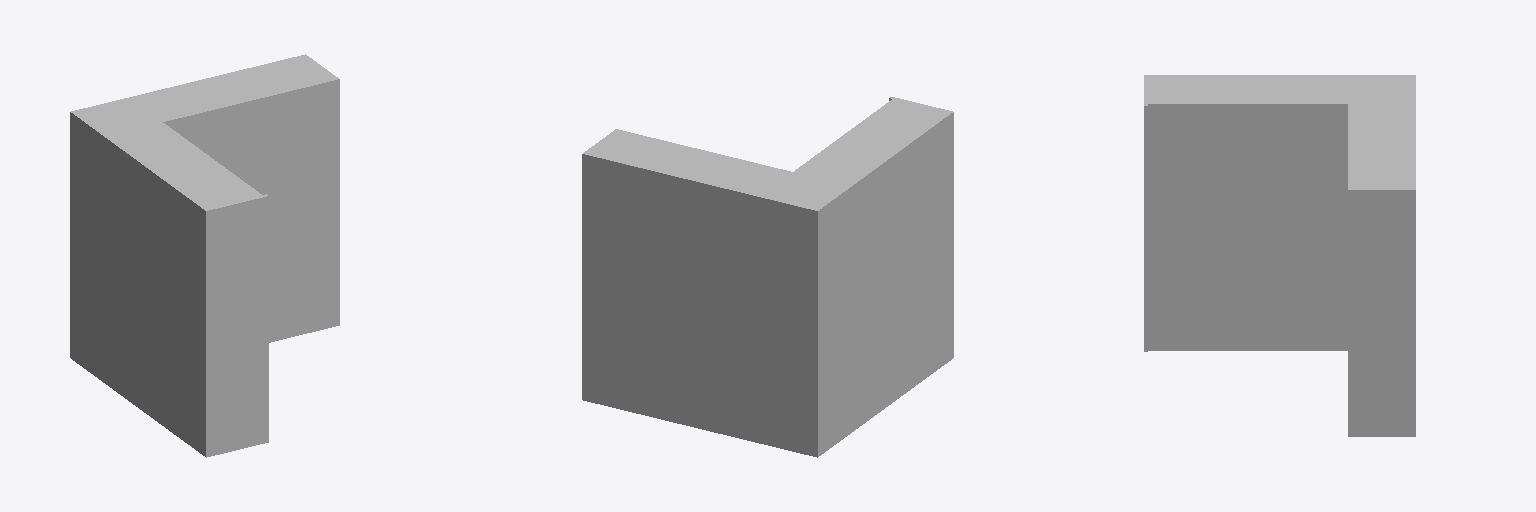
The model's file is The Vault-19.obj.
3 renders of one model, left to right at view 1: azimuth 30°, elevation 25°; view 2: azimuth 150°, elevation 25°; view 3: azimuth 270°, elevation 25°, orthographic.
Parts seen in each view (by area): view 1: The Vault-19; view 2: The Vault-19; view 3: The Vault-19.
Part boxes in pixels (x1,y1,x2,y2): The Vault-19: (70, 54, 339, 457); The Vault-19: (582, 97, 953, 457); The Vault-19: (1144, 75, 1415, 436).
Size of the model in its own units: 64 by 64 by 64.